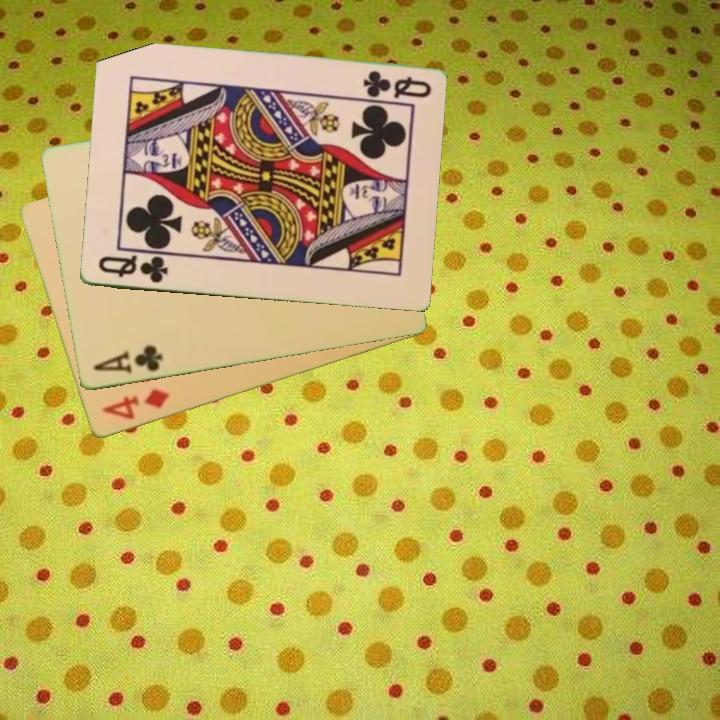4d: (99, 385, 173, 423)
Ac: (89, 342, 166, 377)
Qc: (94, 252, 171, 286), (359, 68, 434, 101)
